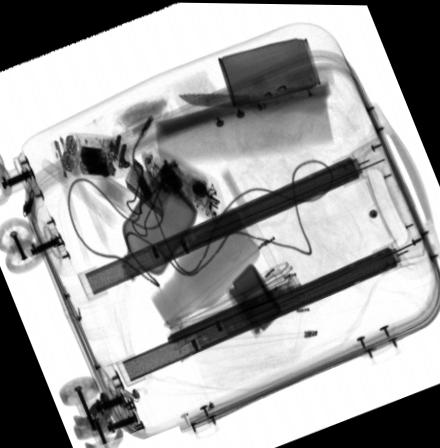Knife: (179, 79, 330, 109)
